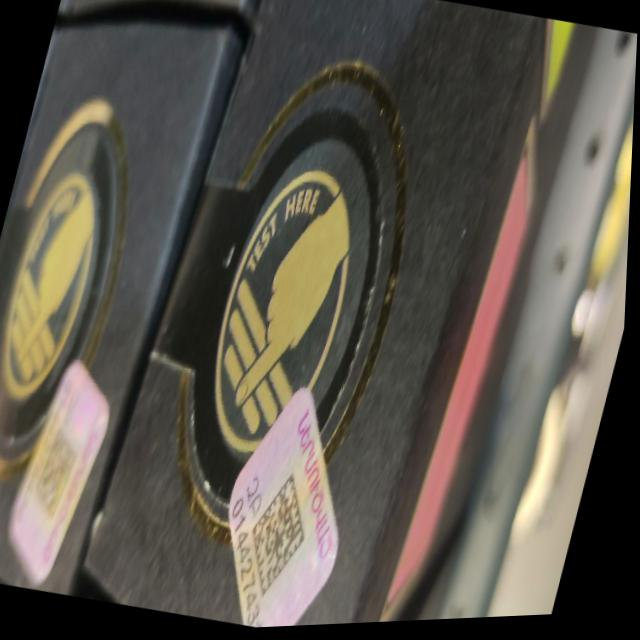datamatrix: (238, 466, 328, 606)
